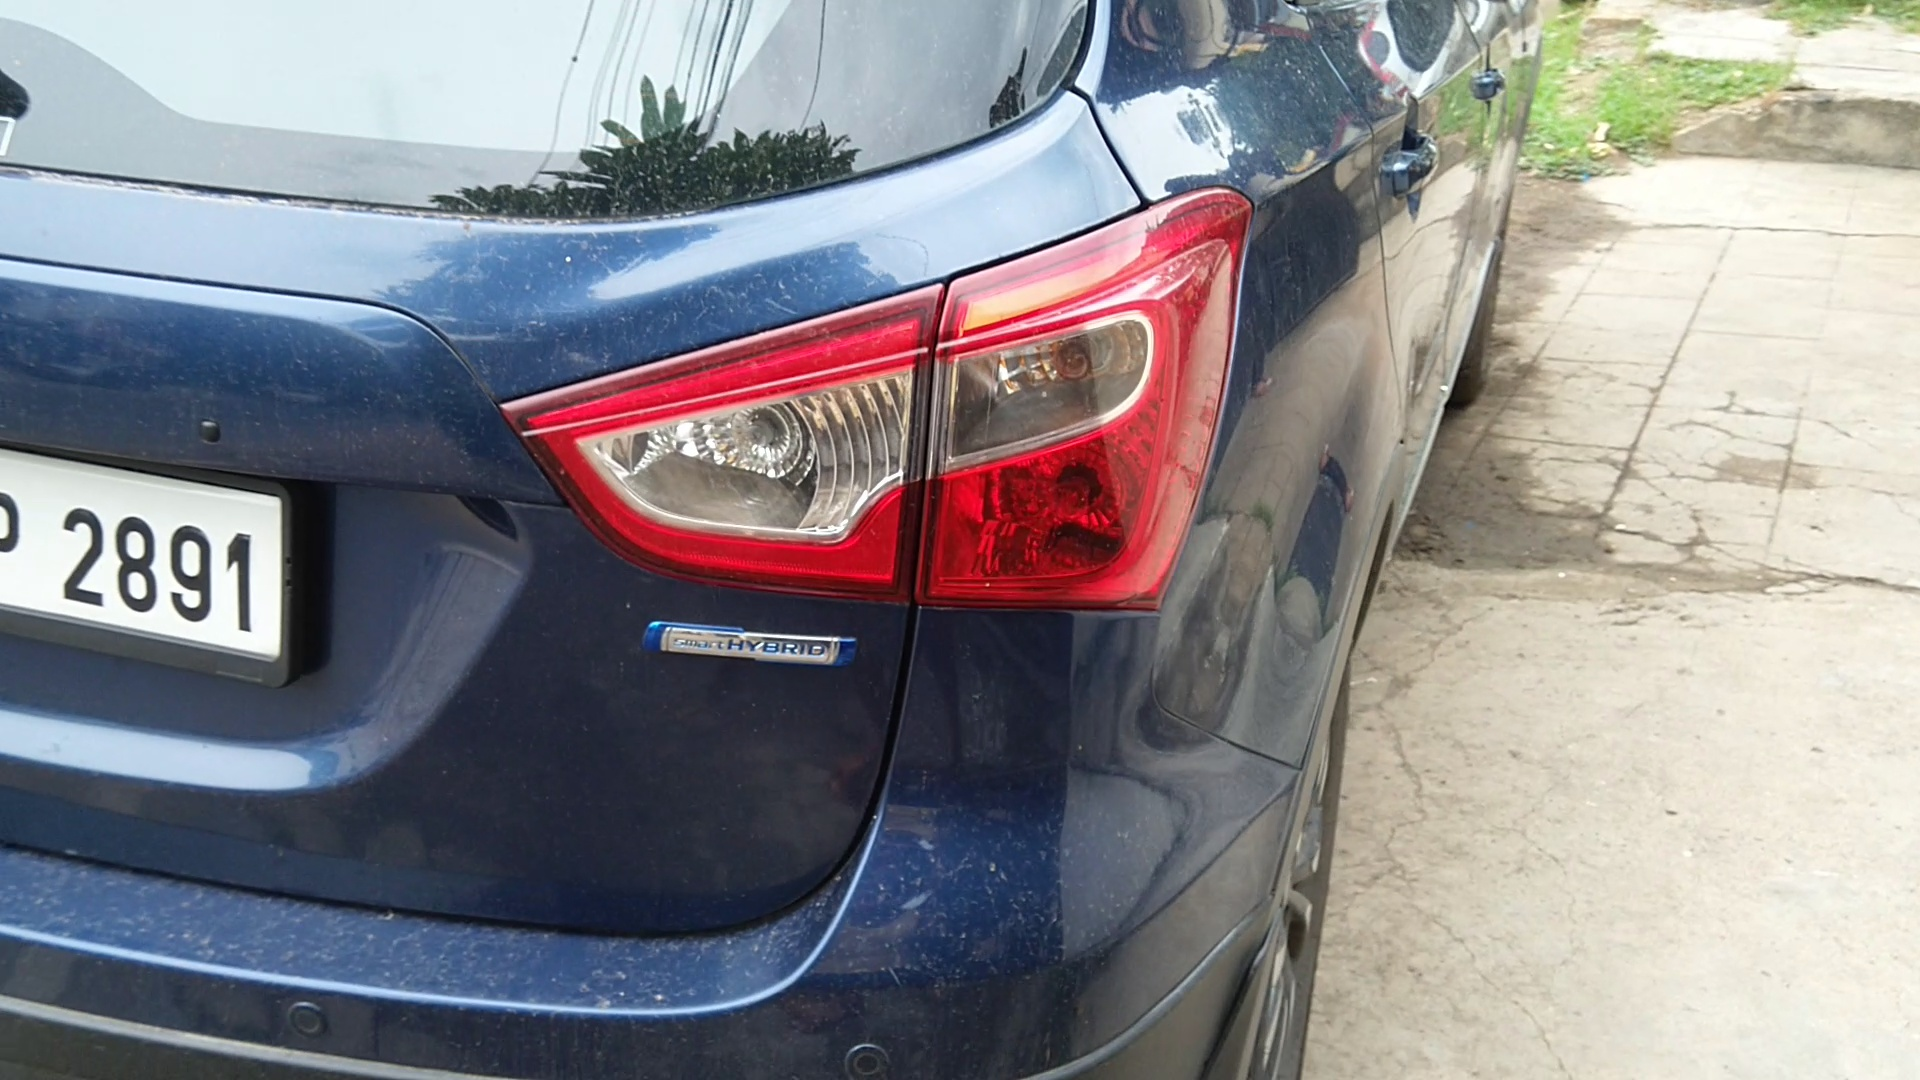shvs: (621, 612, 891, 684)
